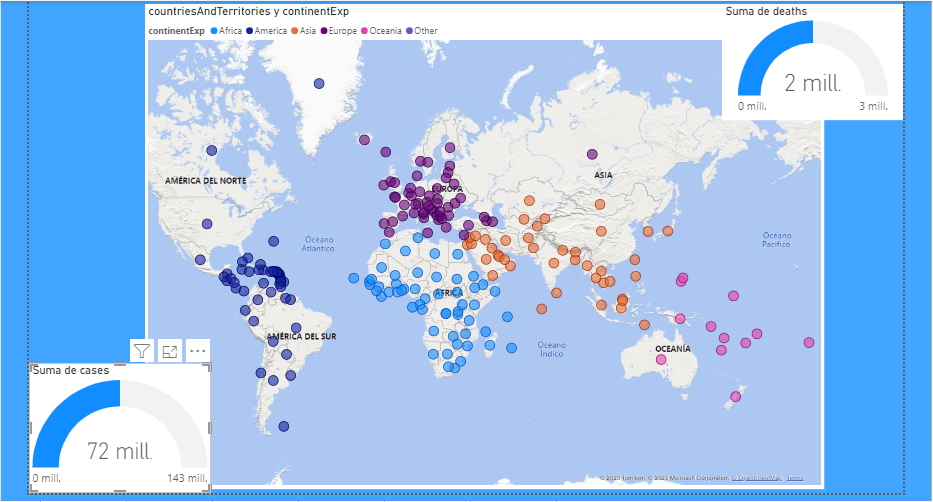

This screenshot's page, from the dashboard's own definition file:
{"tool":"powerbi","page":{"name":"Página 1","canvas":[1280,720],"ordinal":0},"visuals":[{"type":"map","fields":{"Category":["COVID-19-geographic-disbtributi (2).countriesAndTerritories"],"Series":["COVID-19-geographic-disbtributi (2).continentExp"]},"box":[169.8,4.4,993.7,709.8],"z":0},{"type":"gauge","fields":{"Y":["Sum(COVID-19-geographic-disbtributi (2).deaths)"]},"box":[1014.1,4.4,266.3,169.8],"z":1000},{"type":"gauge","fields":{"Y":["Sum(COVID-19-geographic-disbtributi (2).cases)"]},"box":[0,529.8,266.3,190.2],"z":2000}]}

Visuals, with their boxes on the page's 1280x720 design canvas (x1, y1, x2, y2). These are canvas units, not pixel positions in the 933x502 screenshot, which may show the page scaled, cropped or inside an application window:
map - COVID-19-geographic-disbtributi (2).countriesAndTerritories x COVID-19-geographic-disbtributi (2).continentExp: [left=170, top=4, right=1164, bottom=714]
gauge - Sum(COVID-19-geographic-disbtributi (2).deaths): [left=1014, top=4, right=1280, bottom=174]
gauge - Sum(COVID-19-geographic-disbtributi (2).cases): [left=0, top=530, right=266, bottom=720]
